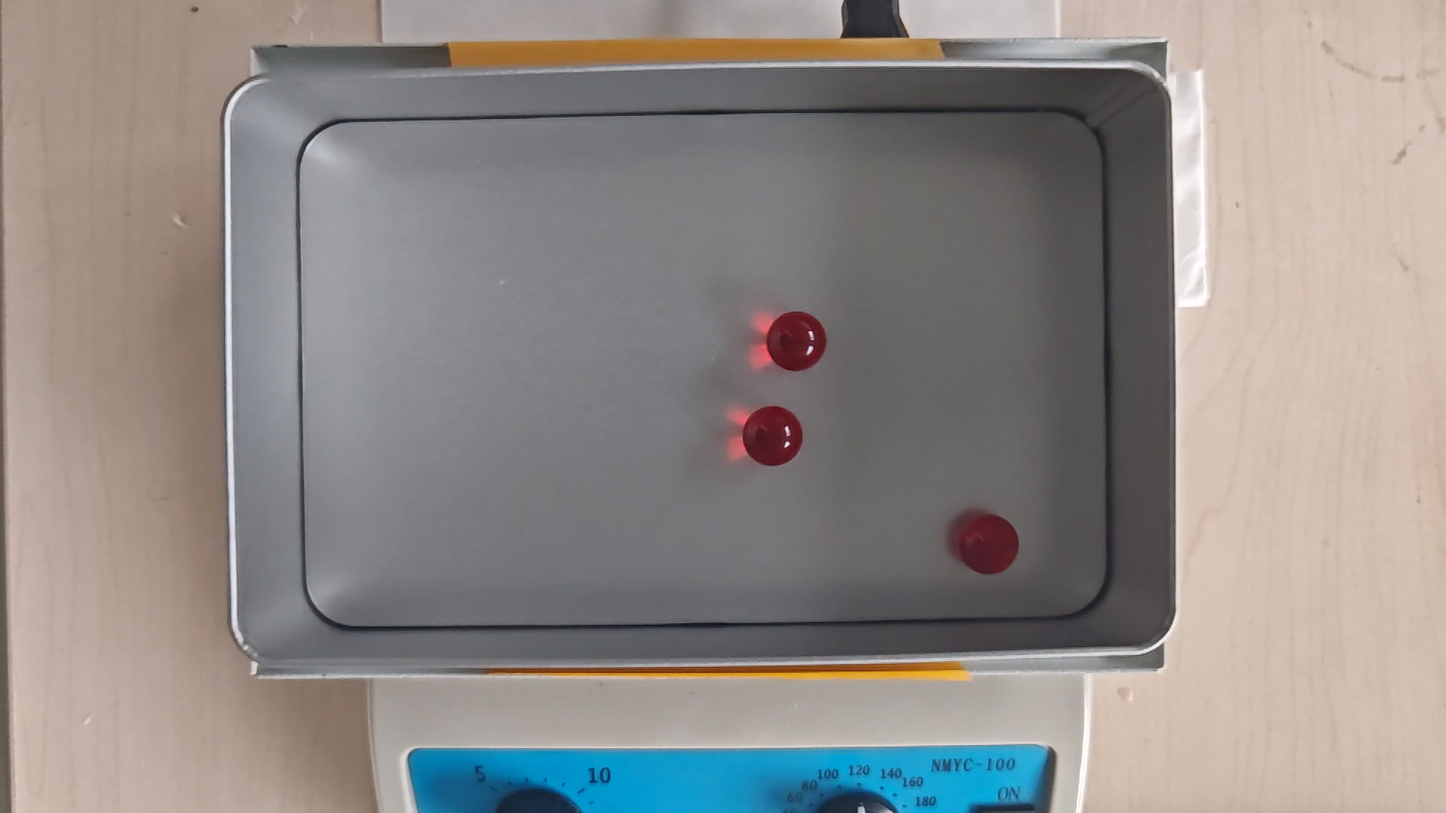ball: (764, 310, 829, 372), (958, 513, 1017, 574), (745, 407, 802, 465)
container: (295, 114, 1112, 620)
